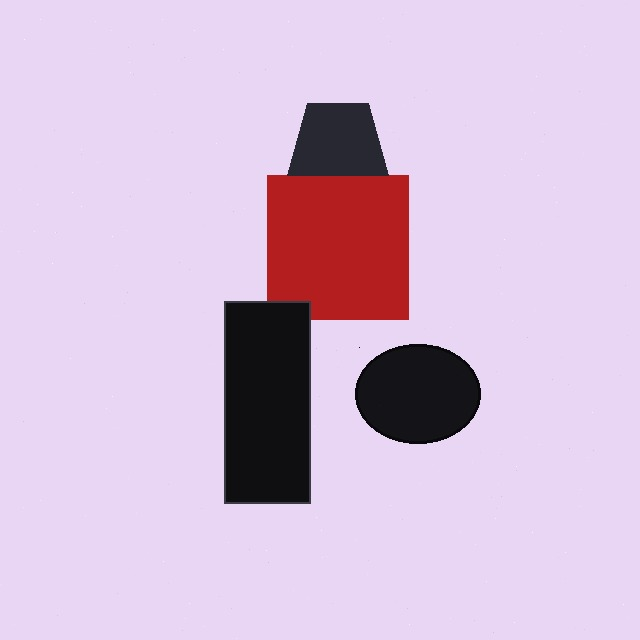phone: (224, 301, 396, 503)
pothole: (355, 344, 480, 443)
vehicle: (267, 103, 408, 319)
